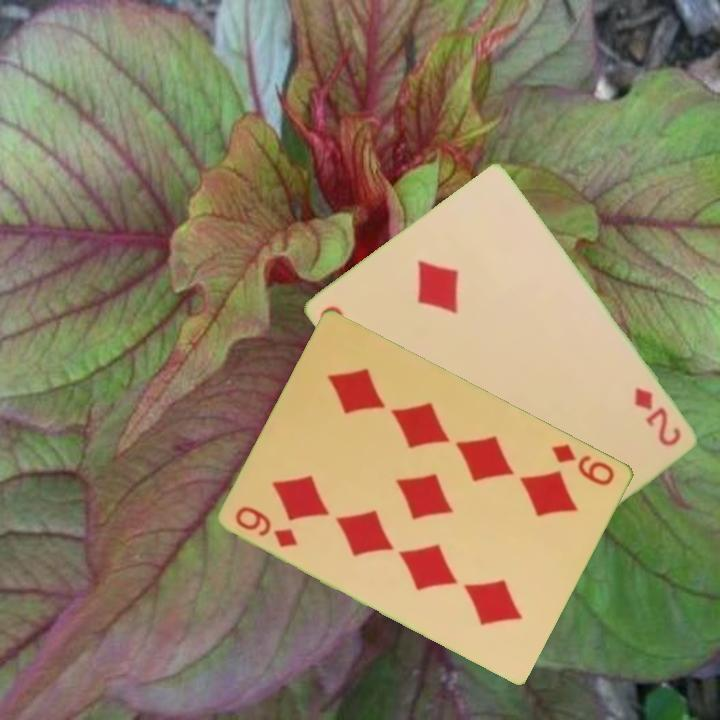2d: (630, 383, 684, 450)
9d: (548, 440, 618, 489), (232, 502, 302, 551)
